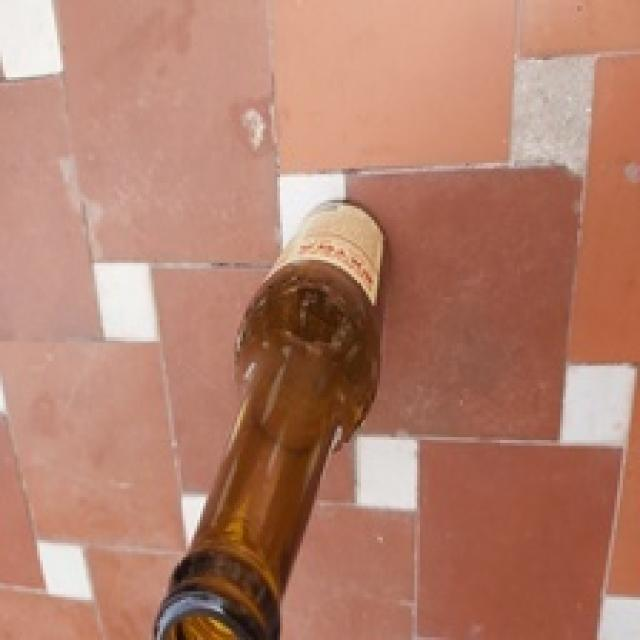Glass: (158, 200, 387, 640)
